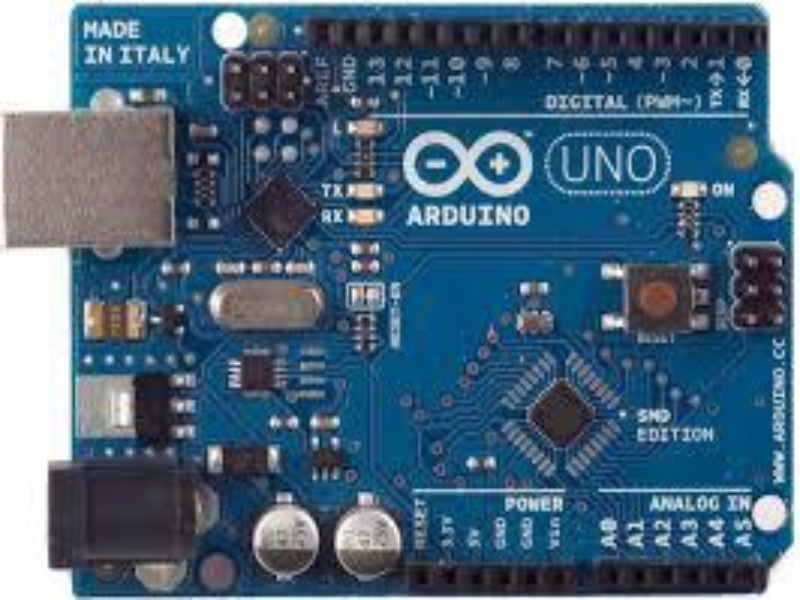uno: (50, 19, 788, 596)
